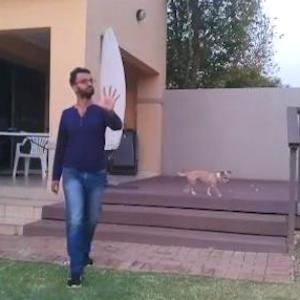follow_hand: (94, 80, 124, 115)
